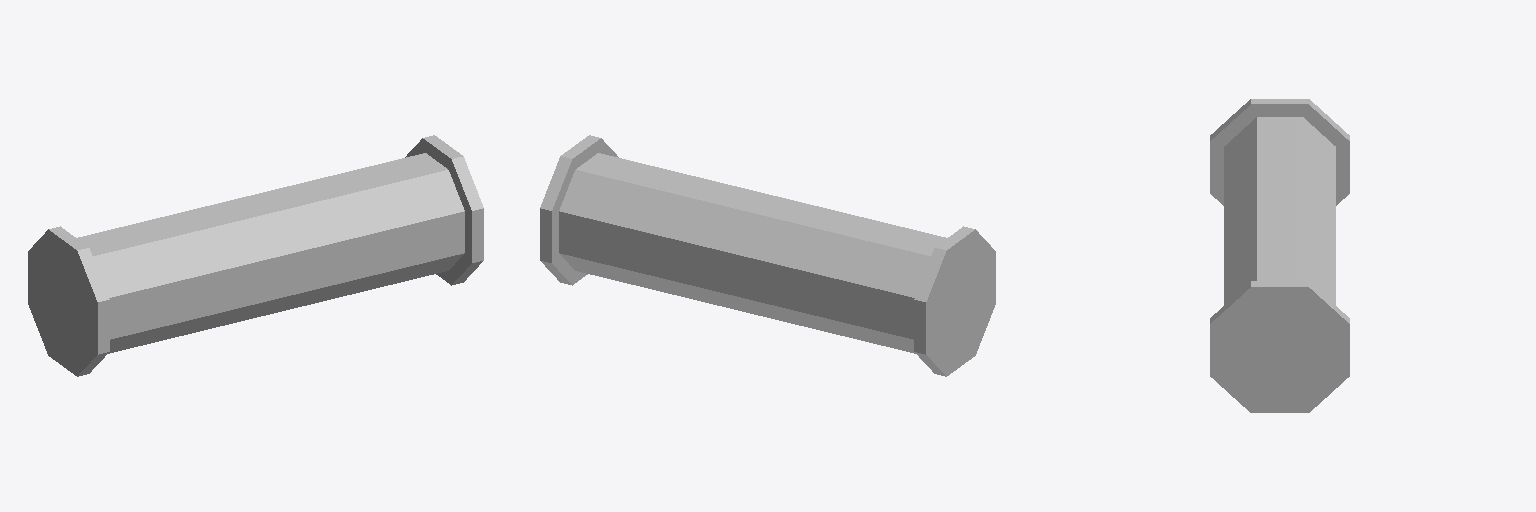
The model's file is pipeworks_pipe_3_lowpoly.obj.
3 views of the same model, side by side, from view 1: azimuth 30°, elevation 25°; view 2: azimuth 150°, elevation 25°; view 3: azimuth 270°, elevation 25° (orthographic).
Parts seen in each view (by area): view 1: Cylinder.000; view 2: Cylinder.000; view 3: Cylinder.000.
Boxes of the visible parts, x1,y1,x2,y2 form: Cylinder.000: [28, 135, 483, 376]; Cylinder.000: [540, 135, 995, 376]; Cylinder.000: [1210, 99, 1349, 412].
Size of the model in its own units: 1 by 0.3125 by 0.3125.